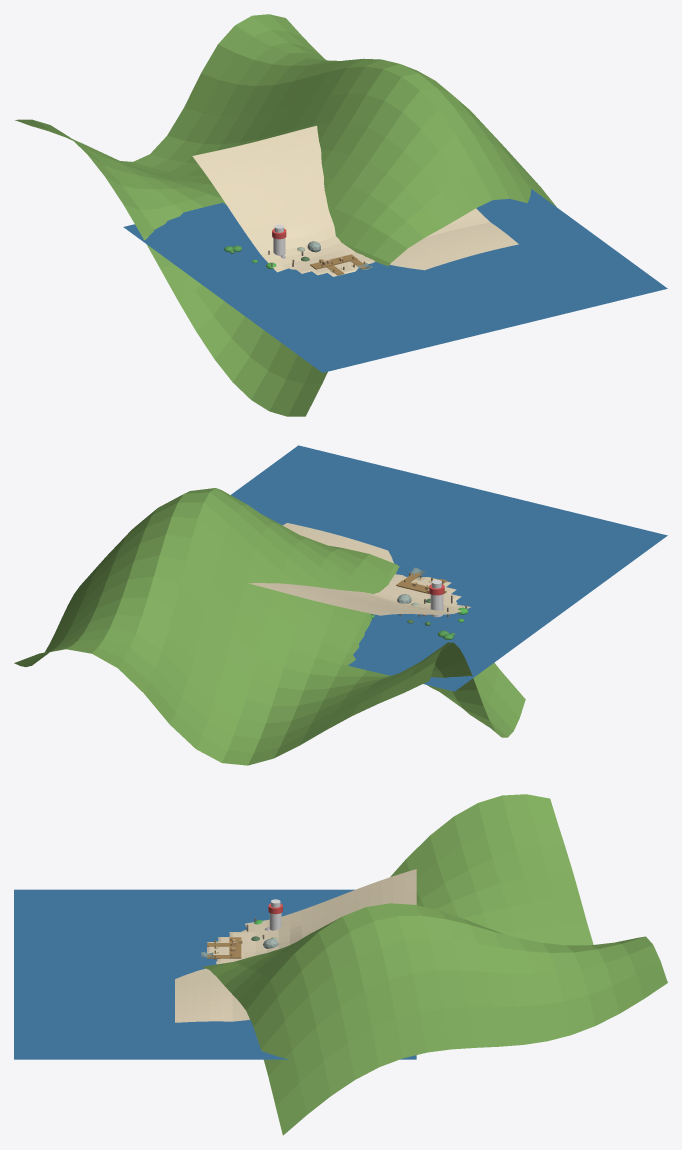
The model's file is harbor.fbx.
3 views of the same model, one above another, from view 1: azimuth 30°, elevation 25°; view 2: azimuth 150°, elevation 25°; view 3: azimuth 270°, elevation 25° (orthographic). The views are drawn at different scales.
Visible parts, largest first — view 1: BackgroundHills, HarborWater, HarborShore; view 2: BackgroundHills, HarborWater, HarborShore; view 3: BackgroundHills, HarborWater, HarborShore.
Part boxes in pixels (x1,y1,x2,y2): BackgroundHills: [15, 14, 556, 416]; HarborWater: [123, 189, 667, 372]; HarborShore: [192, 125, 518, 276]; BackgroundHills: [14, 488, 525, 765]; HarborWater: [231, 445, 667, 691]; HarborShore: [248, 523, 470, 615]; BackgroundHills: [201, 794, 667, 1135]; HarborWater: [14, 889, 416, 1059]; HarborShore: [175, 869, 416, 1022].
Size of the model in its own units: 12487 by 6330 by 16244.
